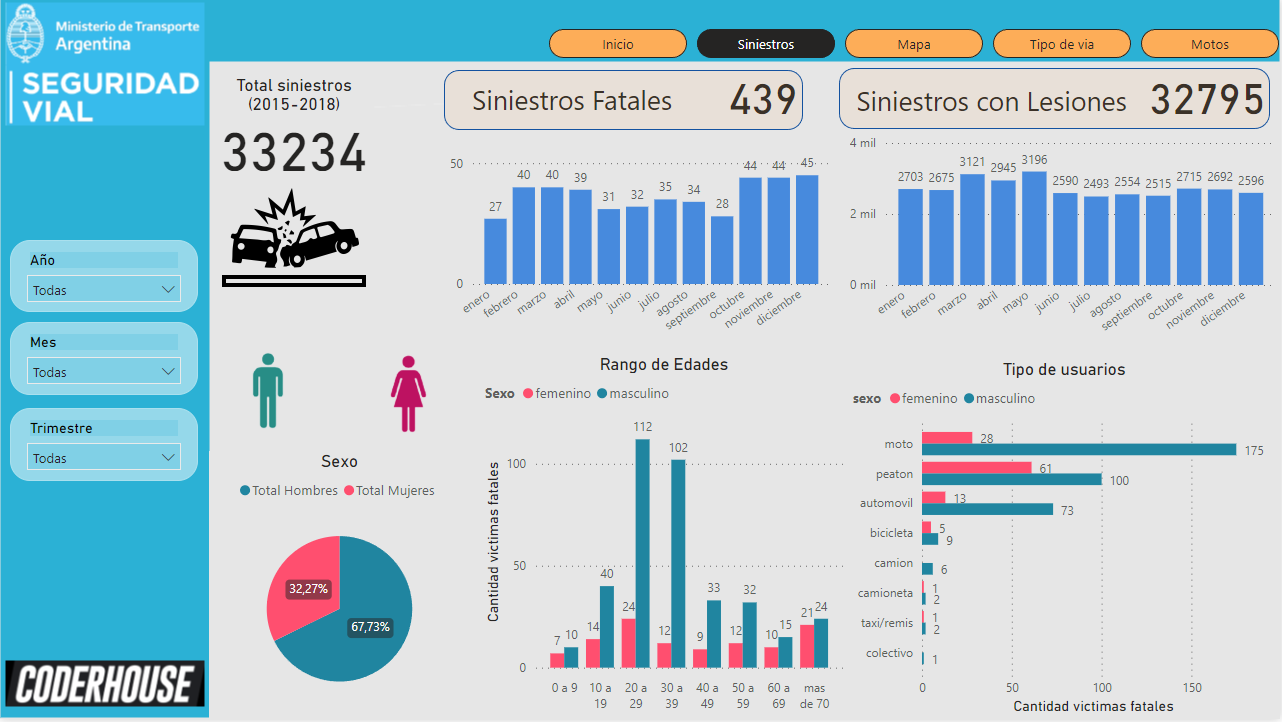

Layout of this report page (visuals, bound fields, positions):
{"tool":"powerbi","page":{"name":"Siniestros","canvas":[1280,720],"ordinal":1},"visuals":[{"type":"pageNavigator","box":[548.9,30,731.1,28.9],"z":0},{"type":"card","fields":{"Values":["Medidas.Total siniestros Lesiones"]},"box":[1137.8,70.2,139,52],"z":0,"group":"g2"},{"type":"card","fields":{"Values":["Medidas.Total sinestros Homicidio"]},"box":[688.3,71.1,150,50],"z":0,"group":"g1"},{"type":"columnChart","fields":{"Y":["Medidas.Total sinestros Homicidio"],"Category":["MomentoSiniestro.fecha.Variación.Jerarquía de fechas.Mes"]},"box":[444.3,126,391.1,227.8],"z":1000,"group":"g1"},{"type":"columnChart","fields":{"Y":["Medidas.Total siniestros Lesiones"],"Category":["MomentoSiniestro.fecha.Variación.Jerarquía de fechas.Mes"]},"box":[844.7,130.2,435.5,225.4],"z":1000,"group":"g2"},{"type":"pieChart","title":"Sexo","fields":{"Y":["Medidas.Total Hombres","Medidas.Total Mujeres"]},"box":[208.9,452.2,261.1,267.8],"z":1000},{"type":"textbox","box":[444.3,77.1,255.6,50],"z":2000,"group":"g1"},{"type":"textbox","box":[844.7,78,292.6,52.2],"z":2000,"group":"g2"},{"type":"clusteredColumnChart","title":"Rango de Edades","fields":{"Category":["Participantes.Grupo_Etario"],"Y":["Medidas.Cantidad victimas fatales"],"Series":["Genero.Sexo"]},"box":[480,355,368,365],"z":2000},{"type":"clusteredBarChart","title":"Tipo de usuarios","fields":{"Category":["TipoSiniestro.tipo"],"Y":["Medidas.Cantidad victimas fatales"],"Series":["Participantes.sexo"]},"box":[848.2,360,432,360],"z":3000},{"type":"group","id":"g1","title":"Grupo 1","box":[444.3,71.1,394.2,282.7],"z":4000},{"type":"card","title":"Total siniestros (2015-2018)","fields":{"Values":["Medidas.Total Siniestros"]},"box":[214.2,75.5,159.8,101],"z":4000,"group":"g3"},{"type":"group","id":"g2","title":"Grupo 2","box":[844.7,70.2,435.5,285.4],"z":5000},{"type":"image","box":[225.6,335.6,83.3,110],"z":6000},{"type":"image","box":[374.4,345.6,68.9,100],"z":7000},{"type":"group","id":"g3","title":"Grupo 3","box":[214,75.5,160,206.5],"z":8000},{"type":"slicer","fields":{"Values":["MomentoSiniestro.fecha.Variación.Jerarquía de fechas.Año"]},"box":[10,241,188,72],"z":9000},{"type":"shape","box":[444.3,71.1,359.1,59.7],"z":9500},{"type":"slicer","fields":{"Values":["MomentoSiniestro.fecha.Variación.Jerarquía de fechas.Mes"]},"box":[10,323.3,187.9,72.3],"z":10000},{"type":"image","box":[214,172,160,110],"z":12000,"group":"g3"},{"type":"slicer","fields":{"Values":["MomentoSiniestro.fecha.Variación.Jerarquía de fechas.Trimestre"]},"box":[10,409,188,73],"z":12000},{"type":"shape","box":[838.5,69.4,431.1,60.6],"z":13000},{"type":"shape","box":[222,276,144,12],"z":14000}]}

Visuals, with their boxes in screenshot pixels (x1, y1, x2, y2), scaled from the page's 1280x720 canvas onto the 1282x722 screenshot:
pageNavigator: <bbox>550, 30, 1281, 59</bbox>
card - Medidas.Total siniestros Lesiones: <bbox>1140, 70, 1279, 123</bbox>
card - Medidas.Total sinestros Homicidio: <bbox>689, 71, 840, 121</bbox>
columnChart - Medidas.Total sinestros Homicidio x MomentoSiniestro.fecha.Variación.Jerarquía de fechas.Mes: <bbox>445, 126, 837, 355</bbox>
columnChart - Medidas.Total siniestros Lesiones x MomentoSiniestro.fecha.Variación.Jerarquía de fechas.Mes: <bbox>846, 131, 1281, 357</bbox>
"Sexo" pieChart: <bbox>209, 453, 471, 721</bbox>
textbox: <bbox>445, 77, 701, 127</bbox>
textbox: <bbox>846, 78, 1139, 131</bbox>
"Rango de Edades" clusteredColumnChart: <bbox>481, 356, 849, 721</bbox>
"Tipo de usuarios" clusteredBarChart: <bbox>850, 361, 1281, 721</bbox>
"Grupo 1" group: <bbox>445, 71, 840, 355</bbox>
"Total siniestros (2015-2018)" card: <bbox>215, 76, 375, 177</bbox>
"Grupo 2" group: <bbox>846, 70, 1281, 357</bbox>
image: <bbox>226, 337, 309, 447</bbox>
image: <bbox>375, 347, 444, 447</bbox>
"Grupo 3" group: <bbox>214, 76, 375, 283</bbox>
slicer - MomentoSiniestro.fecha.Variación.Jerarquía de fechas.Año: <bbox>10, 242, 198, 314</bbox>
shape: <bbox>445, 71, 805, 131</bbox>
slicer - MomentoSiniestro.fecha.Variación.Jerarquía de fechas.Mes: <bbox>10, 324, 198, 397</bbox>
image: <bbox>214, 172, 375, 283</bbox>
slicer - MomentoSiniestro.fecha.Variación.Jerarquía de fechas.Trimestre: <bbox>10, 410, 198, 483</bbox>
shape: <bbox>840, 70, 1272, 130</bbox>
shape: <bbox>222, 277, 367, 289</bbox>
